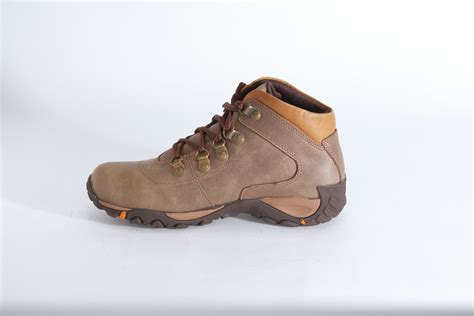cuero: (87, 77, 346, 220)
